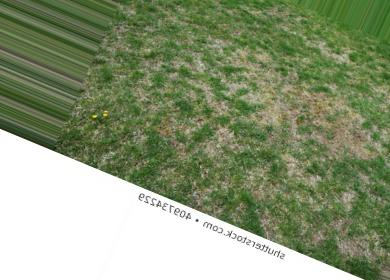patch: (292, 82, 350, 134), (304, 30, 359, 71), (266, 159, 316, 201), (195, 41, 251, 78), (230, 71, 280, 108), (204, 124, 238, 158)
